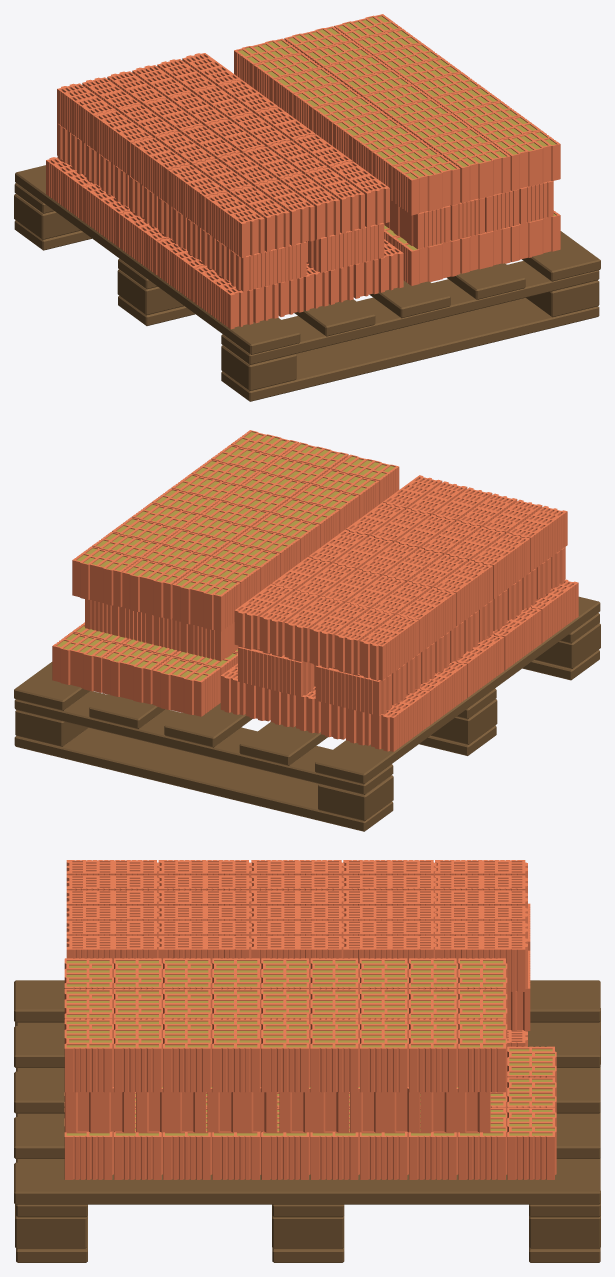
The model's file is palette mit bricks.fbx.
The picture shows the model from 3 angles, top to bottom: view 1: azimuth 30°, elevation 25°; view 2: azimuth 150°, elevation 25°; view 3: azimuth 270°, elevation 25°; orthographic projection. The views are drawn at different scales.
Visible parts, largest first — view 1: Palette mit Ziegel; view 2: Palette mit Ziegel; view 3: Palette mit Ziegel.
Part boxes in pixels (x1,y1,x2,y2): Palette mit Ziegel: [14, 14, 600, 401]; Palette mit Ziegel: [14, 430, 600, 831]; Palette mit Ziegel: [14, 860, 600, 1262].
Size of the model in its own units: 681 by 302 by 793.
